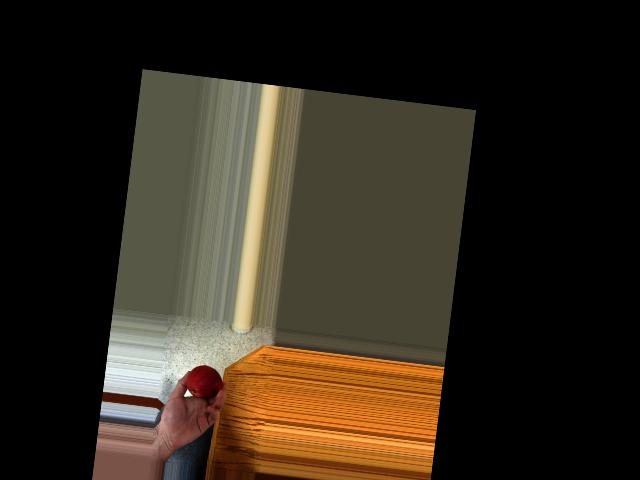apple: (182, 361, 225, 401)
